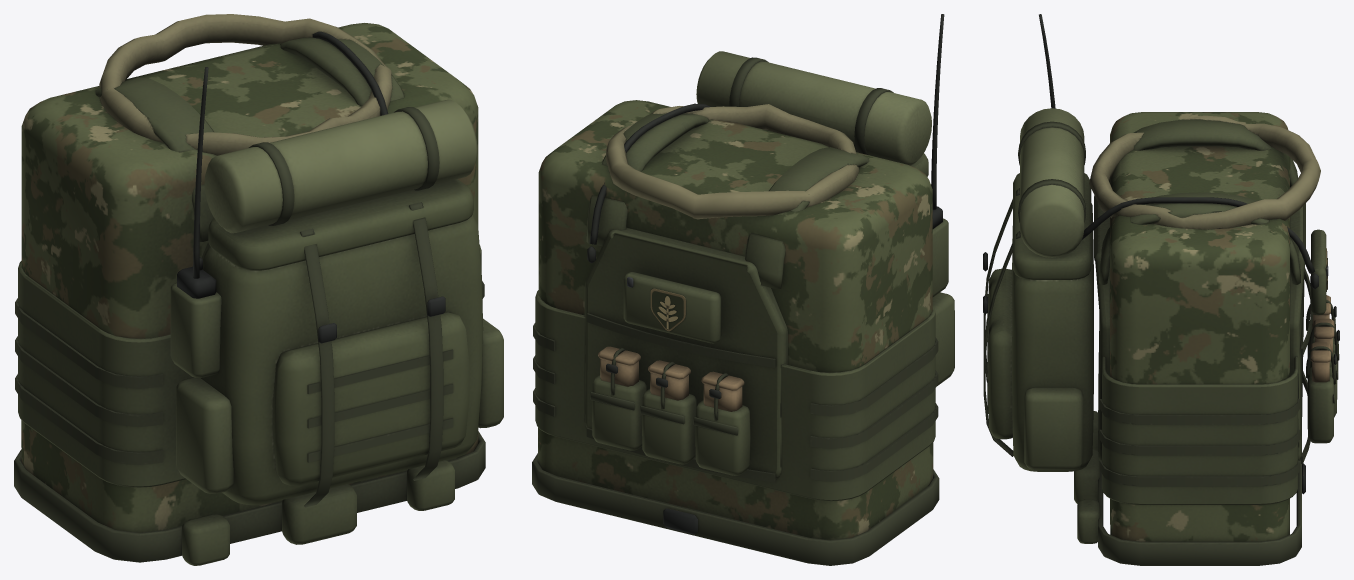
Rendered from Ashford_Torso.glb.
The picture shows the model from 3 angles, left to right: view 1: azimuth 30°, elevation 25°; view 2: azimuth 150°, elevation 25°; view 3: azimuth 270°, elevation 25°; orthographic projection. The views are drawn at different scales.
Visible parts, largest first — view 1: Ashford_Torso_pack, Ashford_Torso_cloth, Ashford_Torso_strap, Ashford_Torso_vest, Ashford_Torso_camoB_v_bedroll, Ashford_Torso_pouch, Ashford_Torso_camoB, Ashford_Torso_helmetDark, Ashford_Torso_strap_v_bedroll, Ashford_Torso_helmetDark_v_antenna; view 2: Ashford_Torso_cloth, Ashford_Torso_vest, Ashford_Torso_plate, Ashford_Torso_strap, Ashford_Torso_pouch, Ashford_Torso_camoB, Ashford_Torso_camoB_v_bedroll, Ashford_Torso_helmetDark, Ashford_Torso_strap_v_bedroll, Ashford_Torso_band, Ashford_Torso_helmetDark_v_antenna; view 3: Ashford_Torso_cloth, Ashford_Torso_vest, Ashford_Torso_pack, Ashford_Torso_strap, Ashford_Torso_pouch, Ashford_Torso_camoB, Ashford_Torso_camoB_v_bedroll, Ashford_Torso_plate, Ashford_Torso_helmetDark, Ashford_Torso_strap_v_bedroll.
Boxes of the visible parts, box(x1,y1,x2,y2) form: Ashford_Torso_pack: box(201, 179, 483, 505); Ashford_Torso_cloth: box(21, 23, 478, 532); Ashford_Torso_strap: box(14, 202, 485, 562); Ashford_Torso_vest: box(18, 37, 481, 487); Ashford_Torso_camoB_v_bedroll: box(204, 99, 477, 233); Ashford_Torso_pouch: box(170, 282, 503, 565); Ashford_Torso_camoB: box(99, 14, 392, 155); Ashford_Torso_helmetDark: box(177, 31, 445, 343); Ashford_Torso_strap_v_bedroll: box(248, 107, 439, 225); Ashford_Torso_helmetDark_v_antenna: box(193, 67, 208, 278); Ashford_Torso_cloth: box(538, 100, 933, 539); Ashford_Torso_vest: box(535, 113, 935, 501); Ashford_Torso_plate: box(584, 227, 787, 478); Ashford_Torso_strap: box(532, 313, 939, 565); Ashford_Torso_pouch: box(592, 218, 954, 475); Ashford_Torso_camoB: box(598, 104, 859, 411); Ashford_Torso_camoB_v_bedroll: box(696, 51, 931, 165); Ashford_Torso_helmetDark: box(587, 103, 942, 534); Ashford_Torso_strap_v_bedroll: box(729, 57, 893, 154); Ashford_Torso_band: box(650, 288, 685, 331); Ashford_Torso_helmetDark_v_antenna: box(931, 14, 944, 209); Ashford_Torso_cloth: box(1110, 112, 1289, 541); Ashford_Torso_vest: box(1099, 119, 1300, 504); Ashford_Torso_pack: box(988, 173, 1093, 471); Ashford_Torso_strap: box(983, 188, 1339, 565); Ashford_Torso_pouch: box(1024, 229, 1337, 543); Ashford_Torso_camoB: box(1089, 115, 1334, 382); Ashford_Torso_camoB_v_bedroll: box(1020, 108, 1084, 257); Ashford_Torso_plate: box(1094, 195, 1305, 460); Ashford_Torso_helmetDark: box(983, 197, 1339, 494); Ashford_Torso_strap_v_bedroll: box(1018, 121, 1085, 222).
Size of the model in its own units: 2.12 by 2.76 by 2.1.
Materials: 1 (1 with a texture image).
